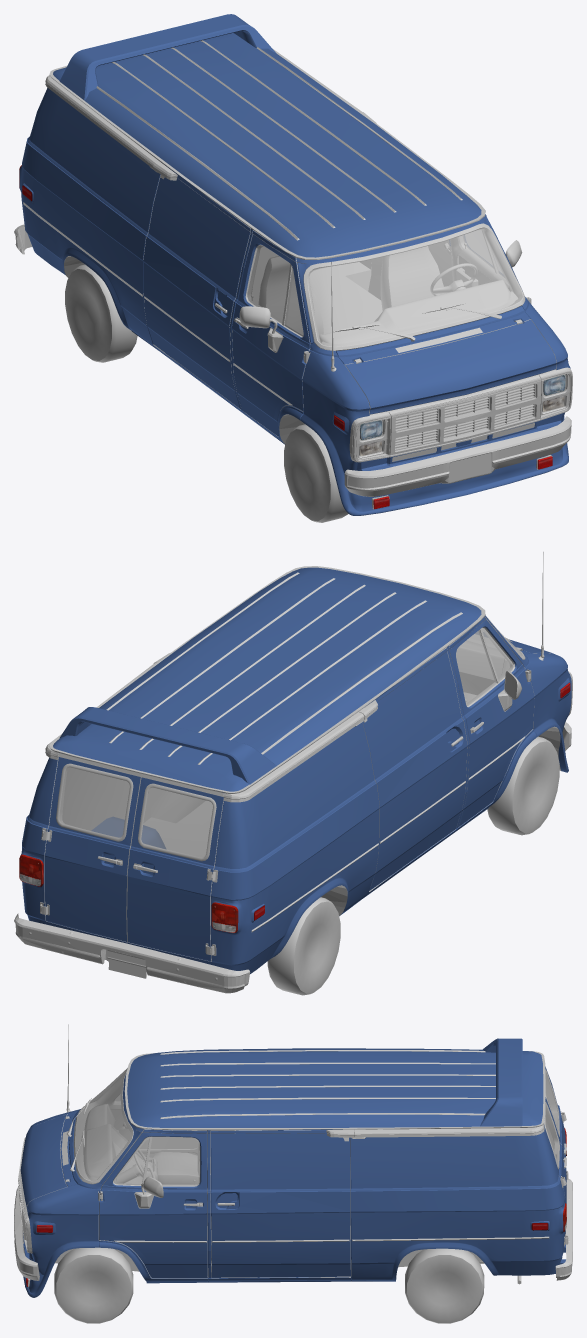
The model's file is Lowpoly Van With Interior_MERGED.fbx.
3 renders of one model, top to bottom at view 1: azimuth 30°, elevation 25°; view 2: azimuth 150°, elevation 25°; view 3: azimuth 270°, elevation 25°, orthographic. The views are drawn at different scales.
Parts seen in each view (by area): view 1: DOOR_01; view 2: DOOR_01; view 3: DOOR_01.
Boxes of the visible parts, bbox=[...] form: DOOR_01: bbox=[14, 14, 572, 522]; DOOR_01: bbox=[14, 552, 572, 995]; DOOR_01: bbox=[14, 1024, 572, 1323].
Bounding box in the file's own units: 195 × 178 × 421.
